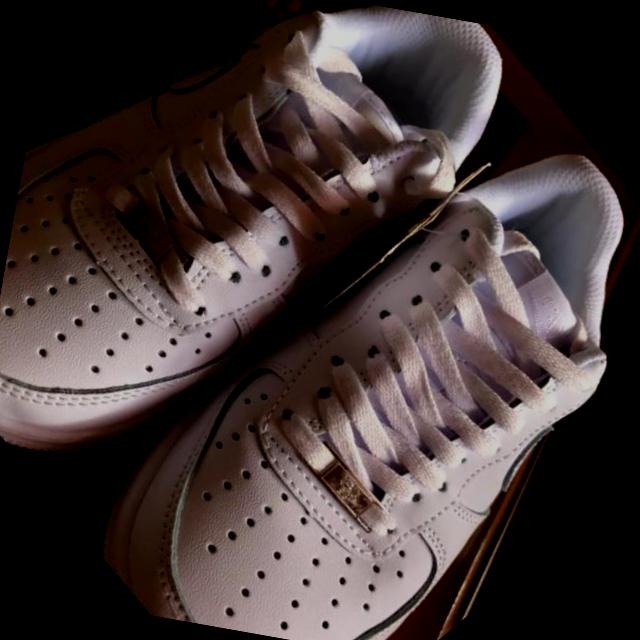nike_fake_airforce: (45, 30, 640, 640), (0, 0, 571, 591)
